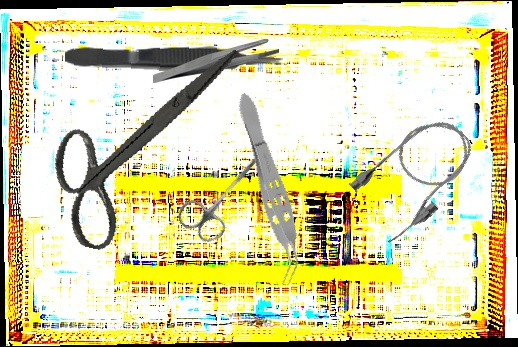Cannula: (342, 104, 490, 249)
Dressing Forceps: (153, 39, 279, 83)
Iris Scissors: (36, 16, 241, 271), (173, 132, 282, 249)
Tissue Forceps: (227, 89, 313, 287), (64, 41, 284, 75)
